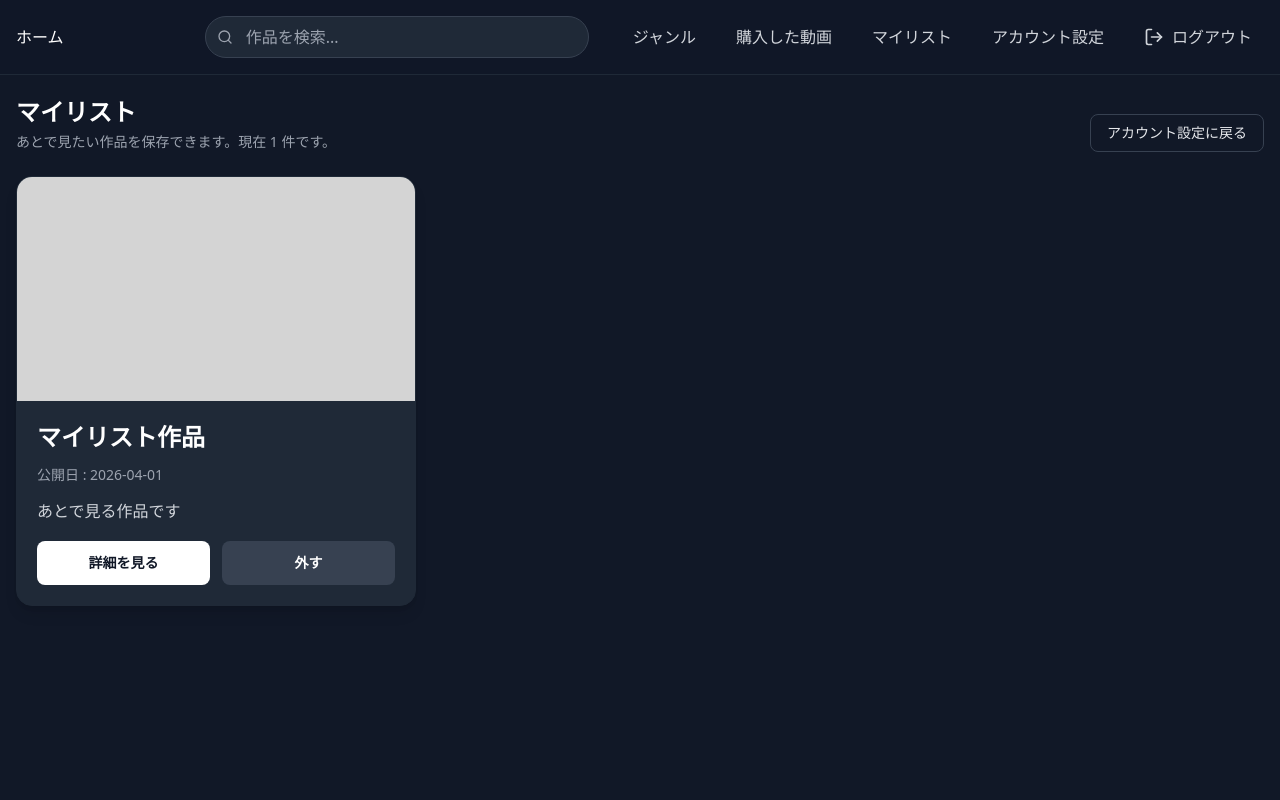
Test: WatchlistPage › loads watchlist and removes an item
The image size is (1280, 800).
Expected: the heading "マイリスト作品" is shown, x1=37 y1=420 x2=205 y2=453
Click the button "外す".
click(308, 563)  # box x1=222 y1=541 x2=395 y2=585
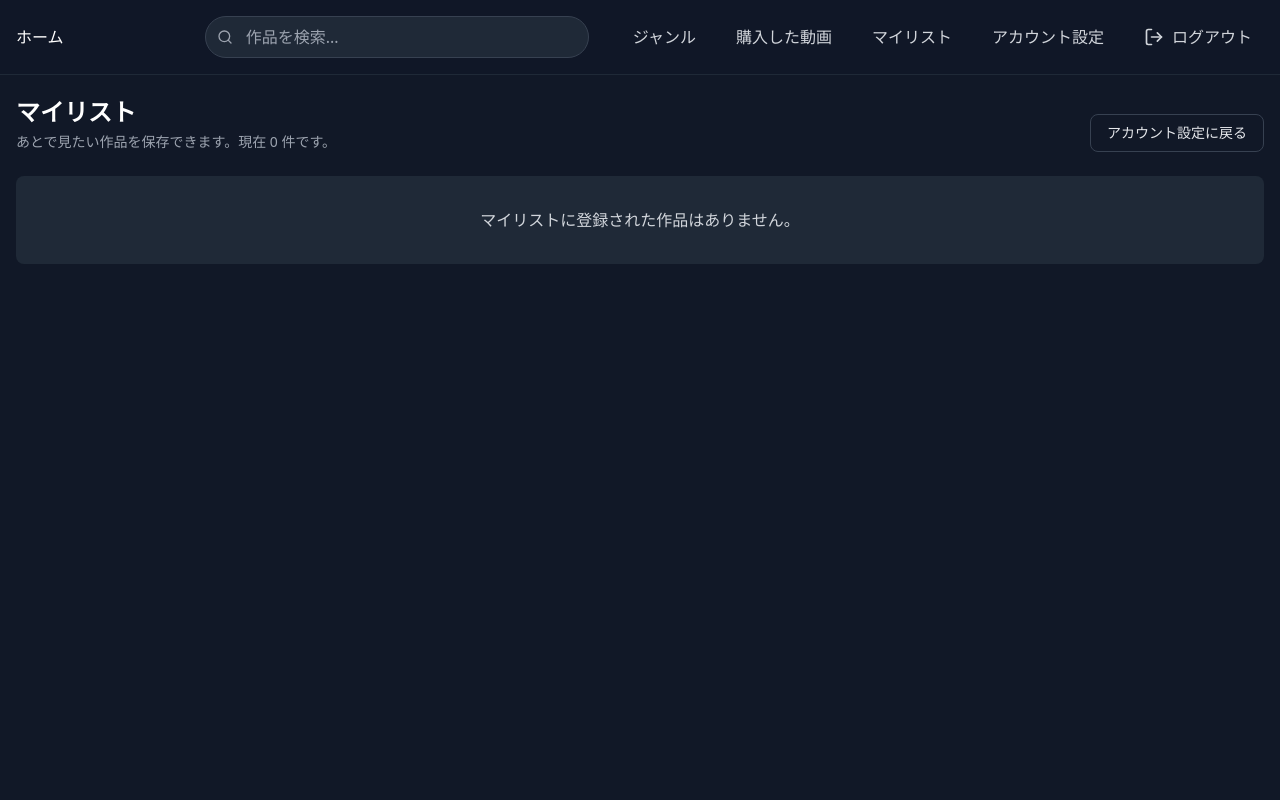
Now the heading "マイリスト作品" is gone
